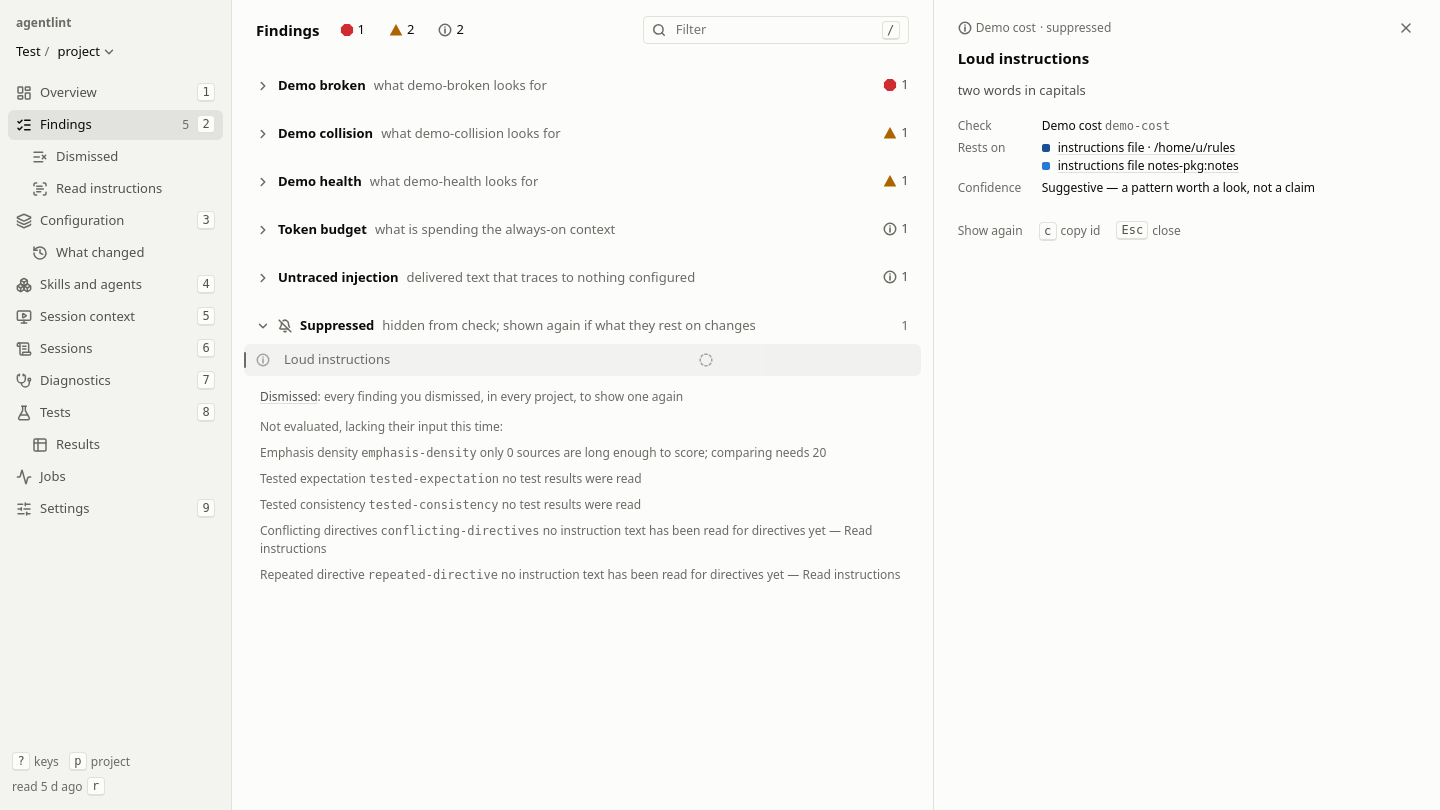
Test: Dismiss, in a finding › says why it couldn't be shown again
Expected: the element named "Finding" is shown, [933,0,1439,809]
Click the button "Show again" at (990, 230), box [958,222,1022,240]
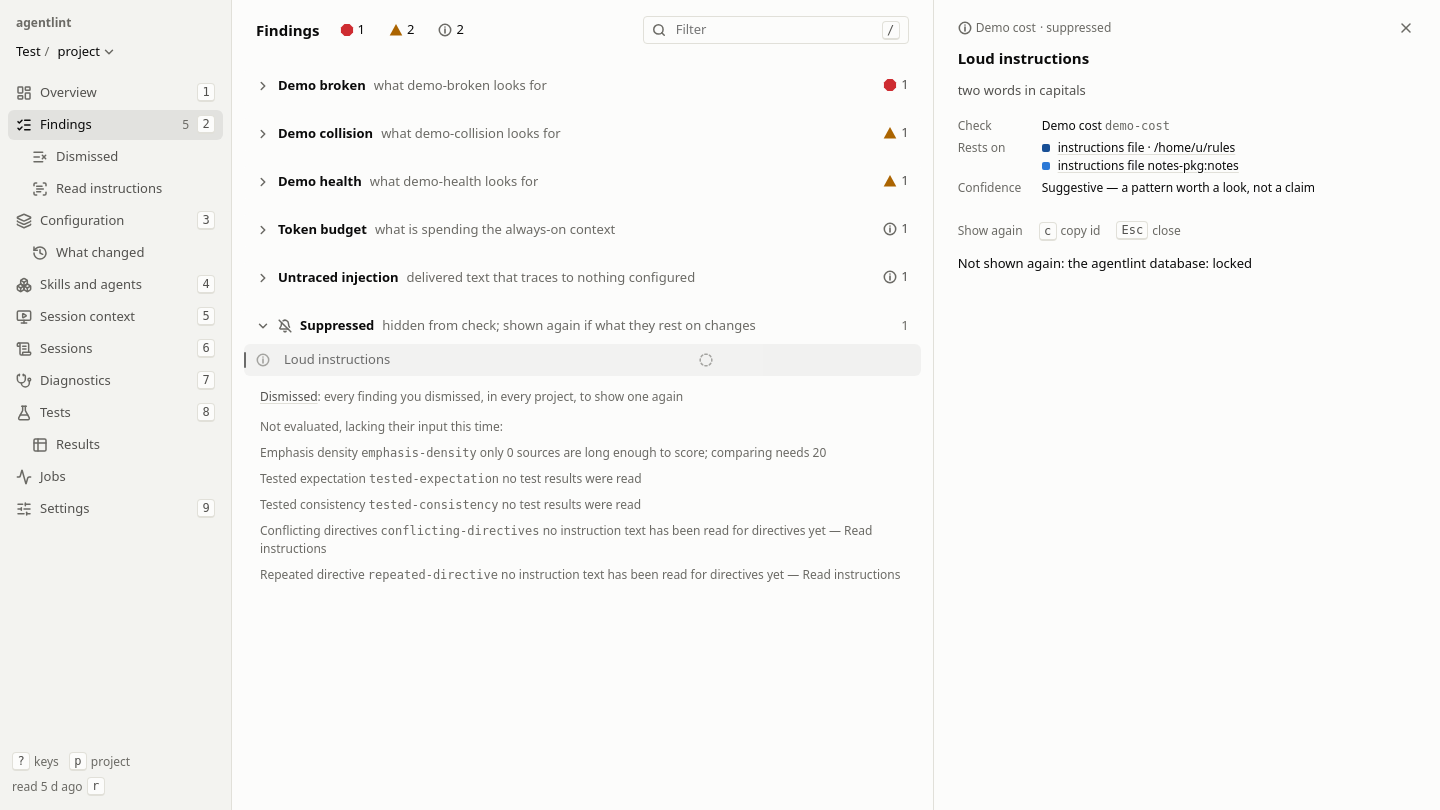
Expected: the header with class "detail-meta" shows "· suppressed", [1040,19,1111,36]
Now the message reads "Not shown again: the agentlint database: locked", box [958,254,1252,272]
